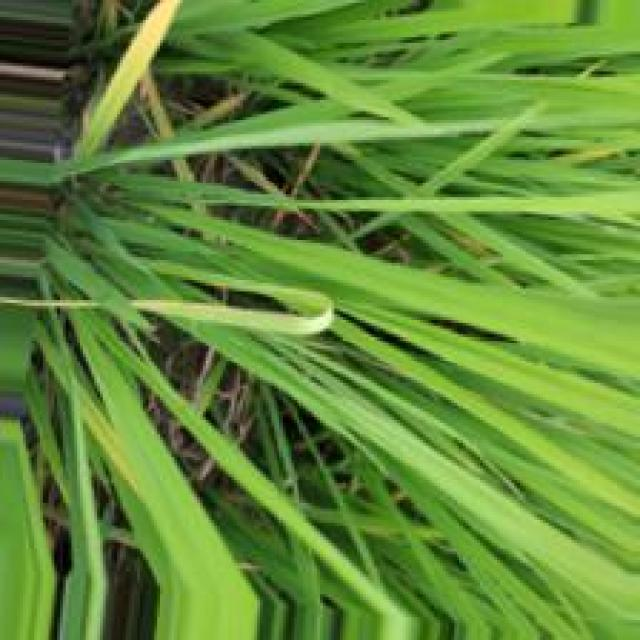HealthyLeaf: (113, 412, 214, 544), (272, 238, 417, 305)
